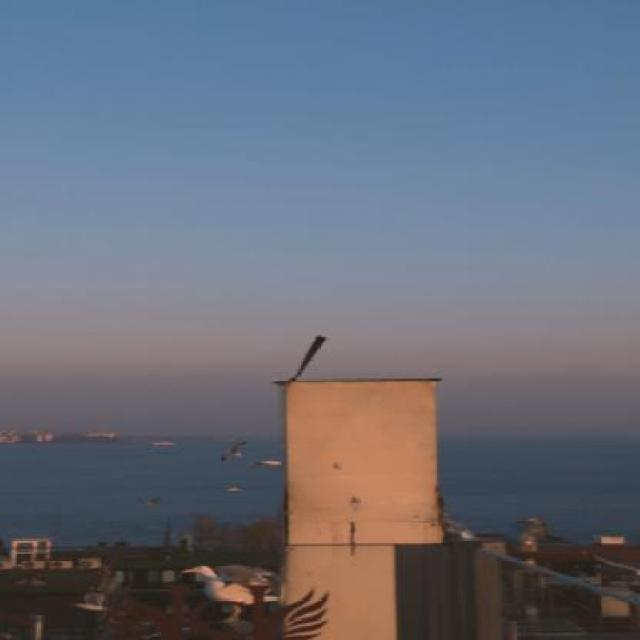bird: (204, 437, 250, 465), (248, 456, 284, 472), (132, 495, 171, 507)
